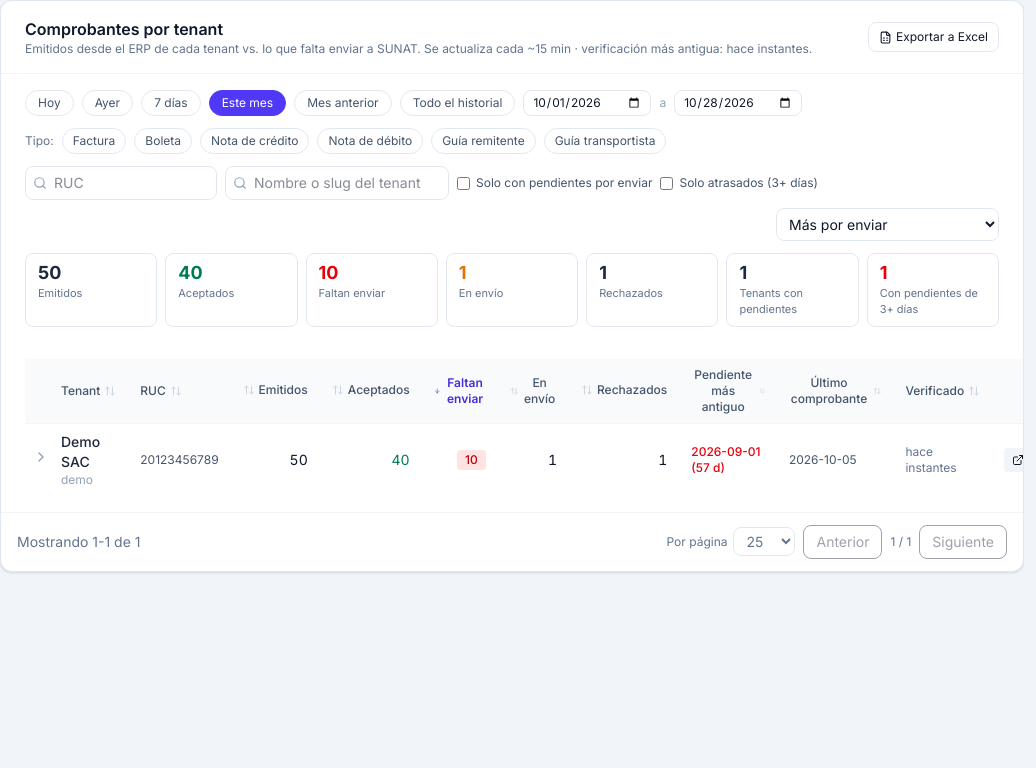
Test case: TenantFiscalSummary › el detalle por tipo se despliega con el desglose de factura y boleta
This screenshot has width=1036, height=768.
Expected: the text "Demo SAC" is shown, 61,432 -> 100,470
Click the button named "ver detalle por tipo". click: (41, 457)
box: 33,449 -> 49,465
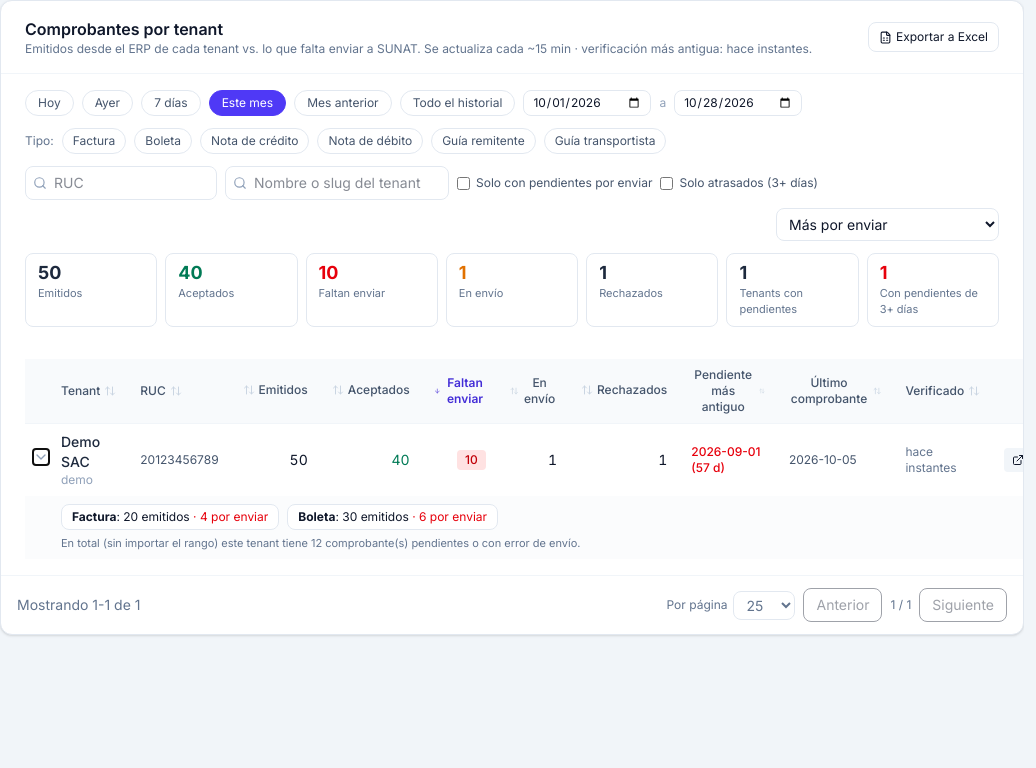
Now the text "Factura" is shown, box 72,508 -> 116,524
Now the text "Boleta" is shown, box 298,508 -> 335,524
